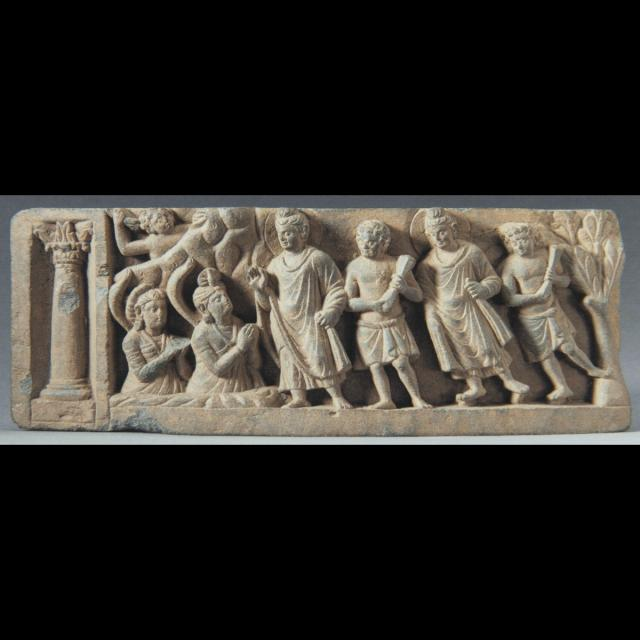buddha-standing: (408, 203, 528, 407), (251, 204, 355, 416)
